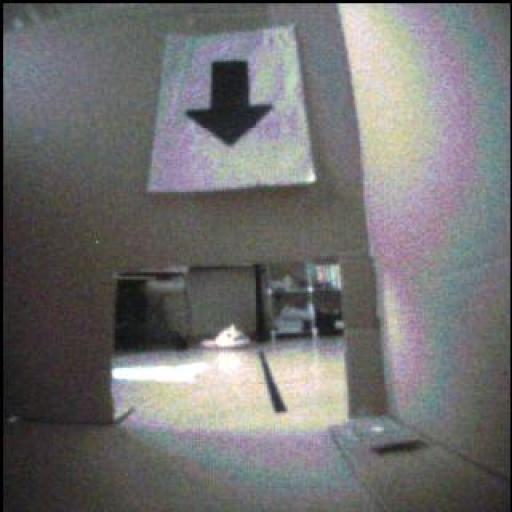arrow: (187, 62, 273, 147)
